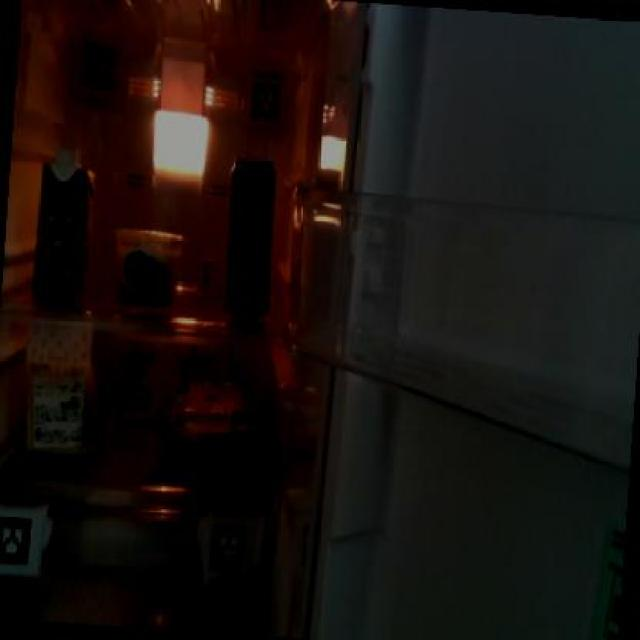bento: (144, 378, 276, 469)
energy_drink: (218, 153, 280, 321)
pudding: (111, 224, 187, 313)
sandwich: (17, 314, 111, 461)
smoothie: (28, 142, 98, 307)
